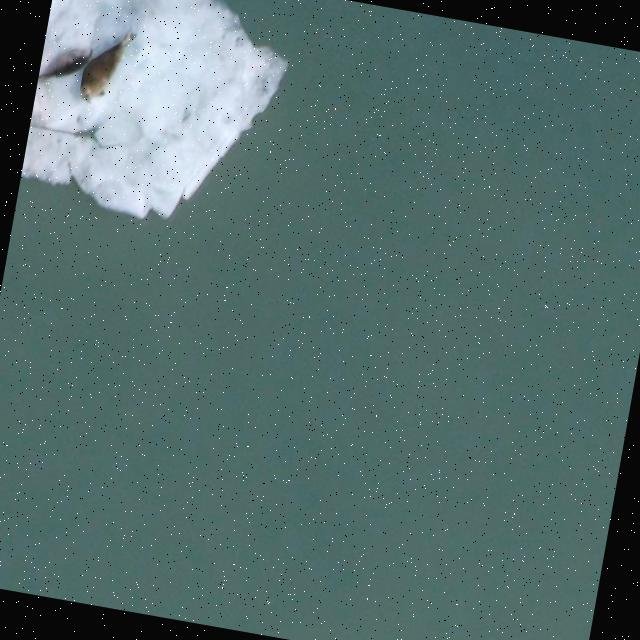seal: (71, 20, 138, 109), (33, 37, 98, 90)
